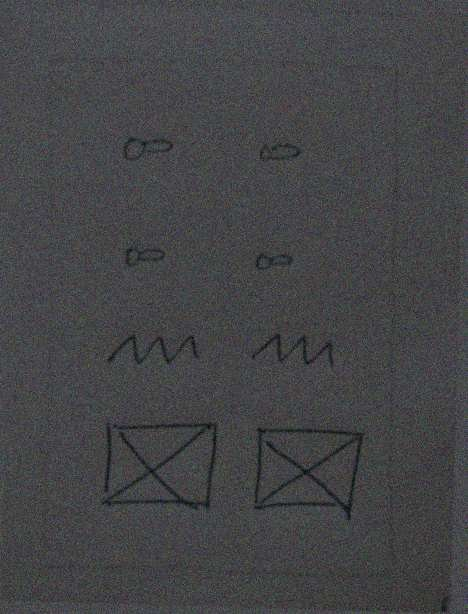image: (87, 413, 224, 517), (244, 416, 372, 526)
switch: (115, 121, 180, 170), (247, 132, 315, 172), (241, 239, 306, 279), (115, 233, 175, 276)
text: (238, 318, 350, 378), (98, 319, 210, 372)
